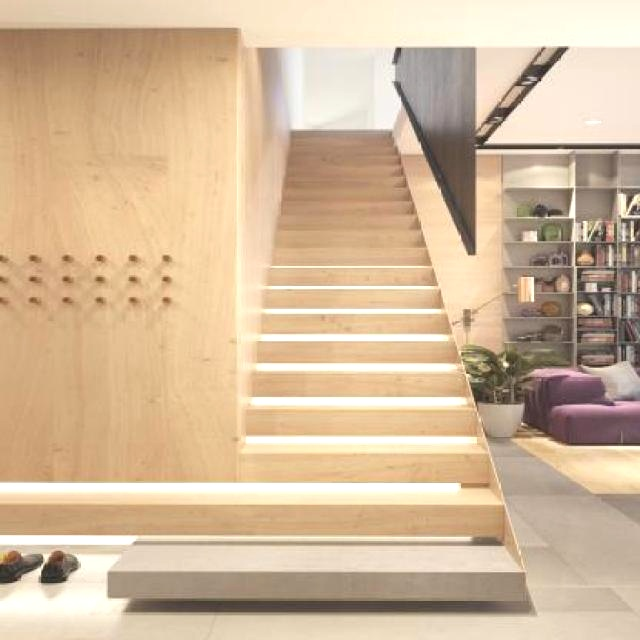stair: (96, 79, 605, 616)
